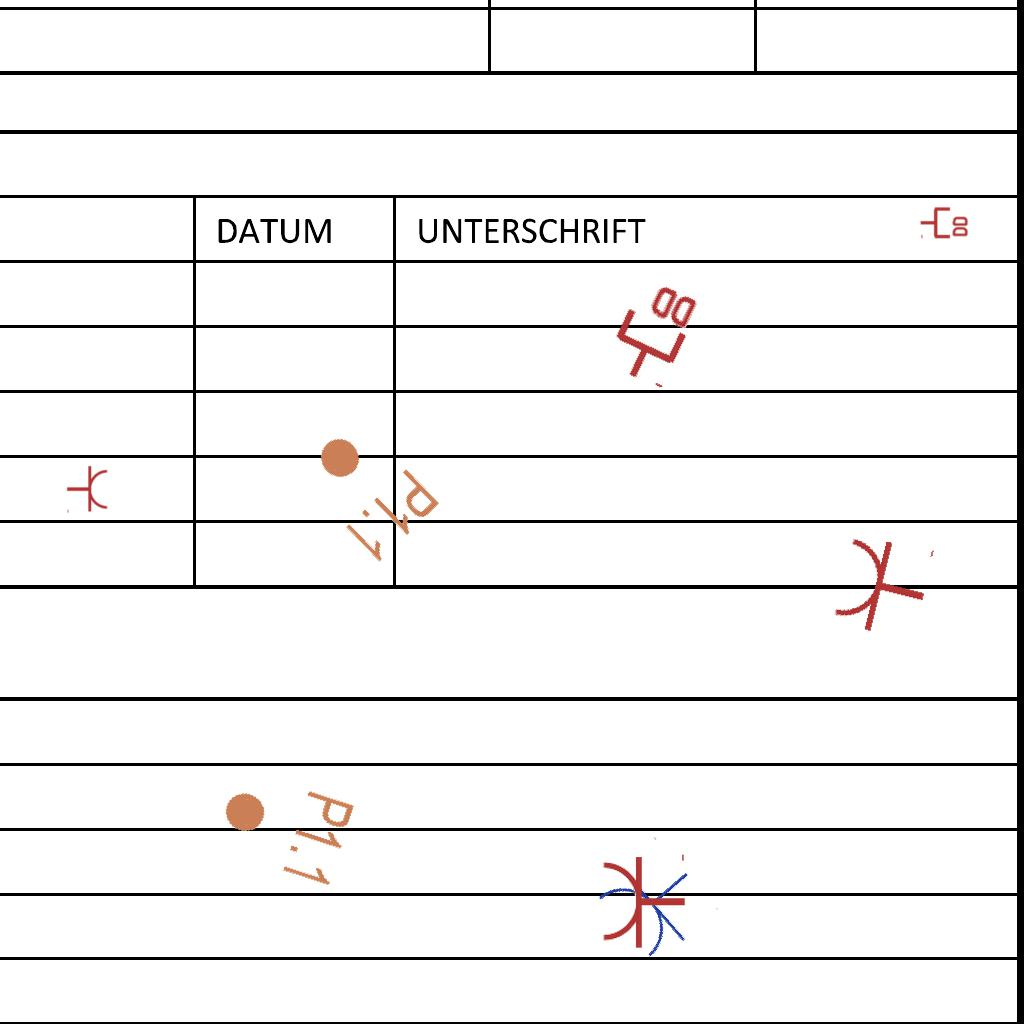Datenanschluss_zweifach: (598, 270, 705, 393), (919, 205, 970, 239)
Downlight_LED_Einbauleuchten_Flur: (288, 411, 445, 569), (208, 763, 359, 893)
Schukosteckdose_einfach: (588, 835, 720, 968), (829, 525, 938, 645), (600, 850, 687, 950), (66, 465, 109, 515)
